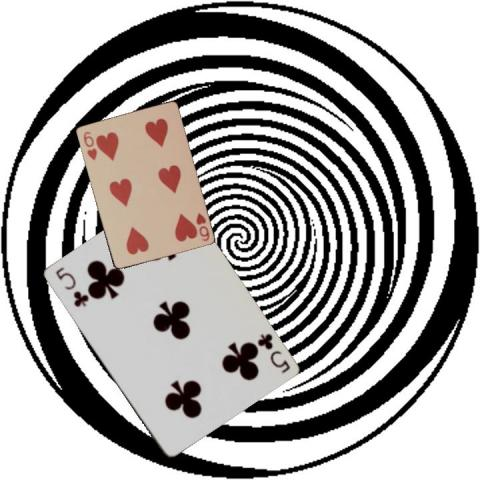5c: (254, 330, 292, 375), (52, 263, 89, 309)
6h: (80, 128, 98, 162), (192, 210, 210, 243)
